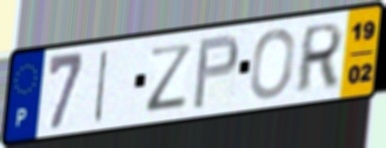7: (47, 52, 86, 133)
I: (92, 46, 112, 126)
O: (247, 26, 298, 102)
P: (190, 32, 241, 112)
R: (292, 20, 346, 97)
Z: (145, 40, 196, 114)
